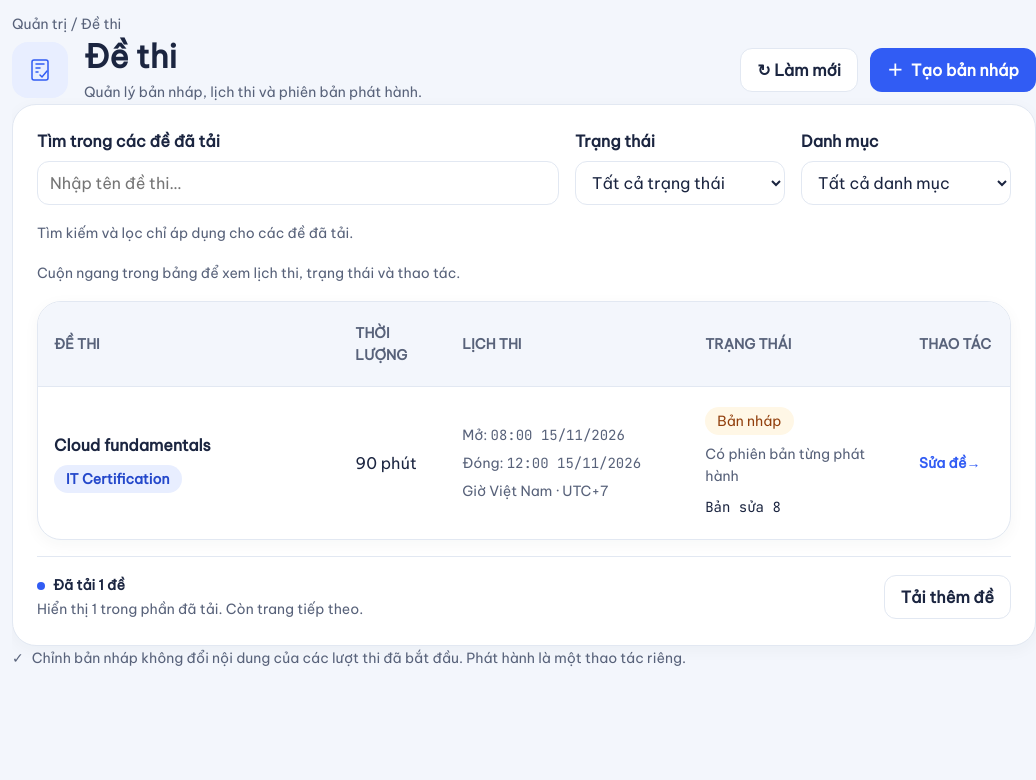
Scenario: hides previously loaded private rows after a forbidden refresh and stops further reads
Check: the link "Cloud fundamentals" is shown, box top-left (54, 435), bottom-right (211, 455)
Click the button "↻ Làm mới". click: [799, 70]
box: top-left (740, 48), bottom-right (858, 92)
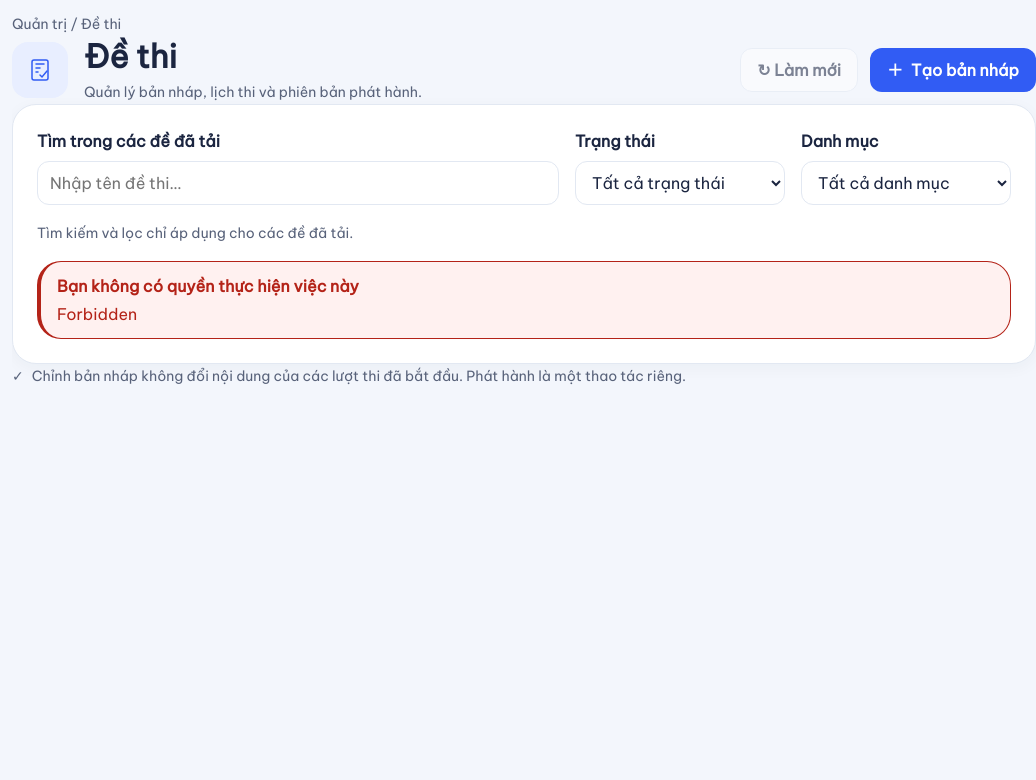
Check: the link "Cloud fundamentals" is gone
Check: the text "Đã tải 1 đề" is gone
Check: the button "↻ Làm mới" is disabled, box top-left (740, 48), bottom-right (858, 92)
